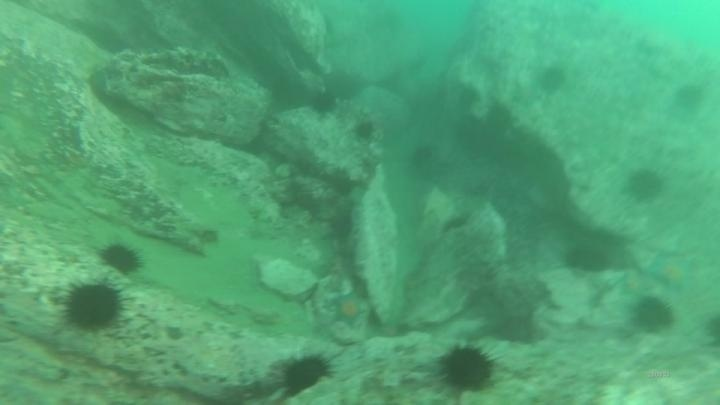echinus: (60, 278, 127, 334), (435, 341, 499, 396), (276, 352, 333, 398), (451, 113, 496, 158), (629, 294, 676, 336), (561, 241, 613, 277), (98, 240, 145, 276), (623, 166, 666, 204), (323, 69, 363, 103), (482, 101, 516, 139), (671, 81, 707, 115), (535, 63, 569, 96), (308, 88, 339, 118), (454, 83, 482, 114), (411, 141, 439, 172), (351, 117, 377, 143)
starfish: (644, 250, 698, 295), (328, 289, 370, 329), (616, 268, 653, 301)
